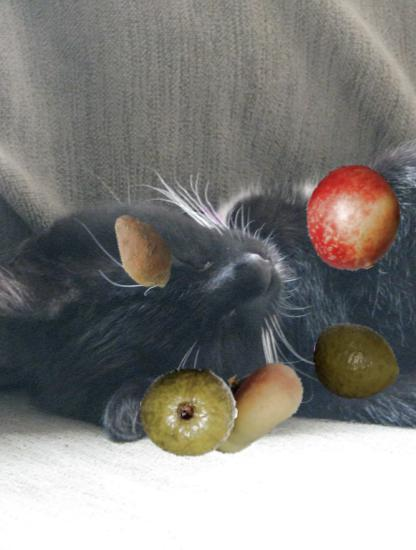Guava: (139, 363, 238, 462), (313, 318, 401, 406)
Nectarine: (302, 166, 407, 271)
Peach: (194, 348, 310, 464)
Potato: (100, 208, 186, 294)
